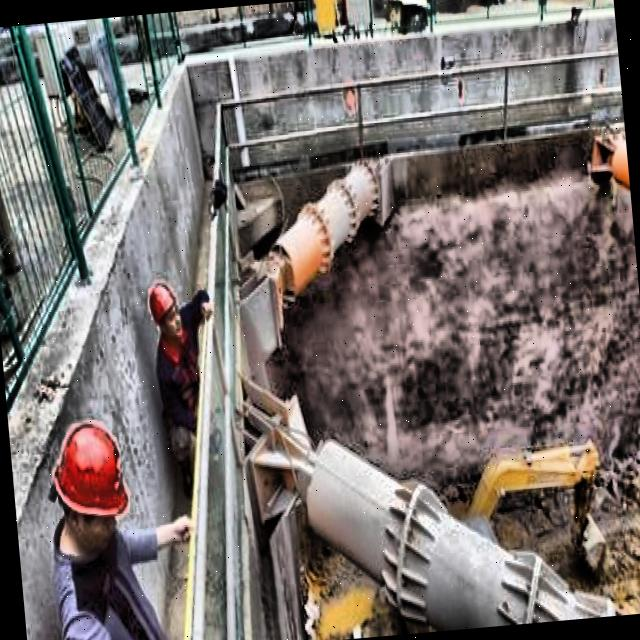helmet: (39, 405, 140, 568), (142, 270, 188, 348)
